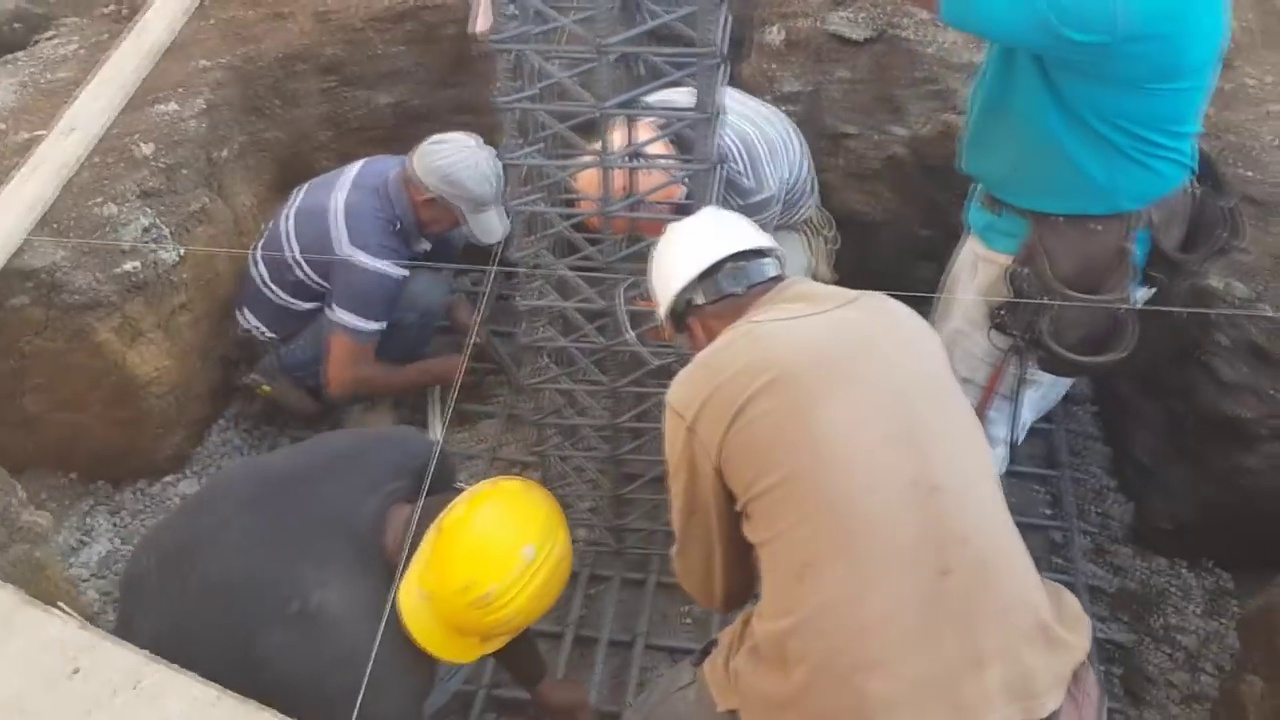helmet: (394, 472, 578, 665), (646, 204, 786, 336), (573, 122, 681, 242)
helmet-off: (397, 130, 507, 246)
helmet-on: (375, 468, 579, 668), (644, 204, 789, 359), (573, 116, 698, 238)
person: (642, 200, 1108, 717), (920, 3, 1234, 480), (108, 424, 582, 717), (231, 128, 507, 425), (572, 75, 847, 282)
